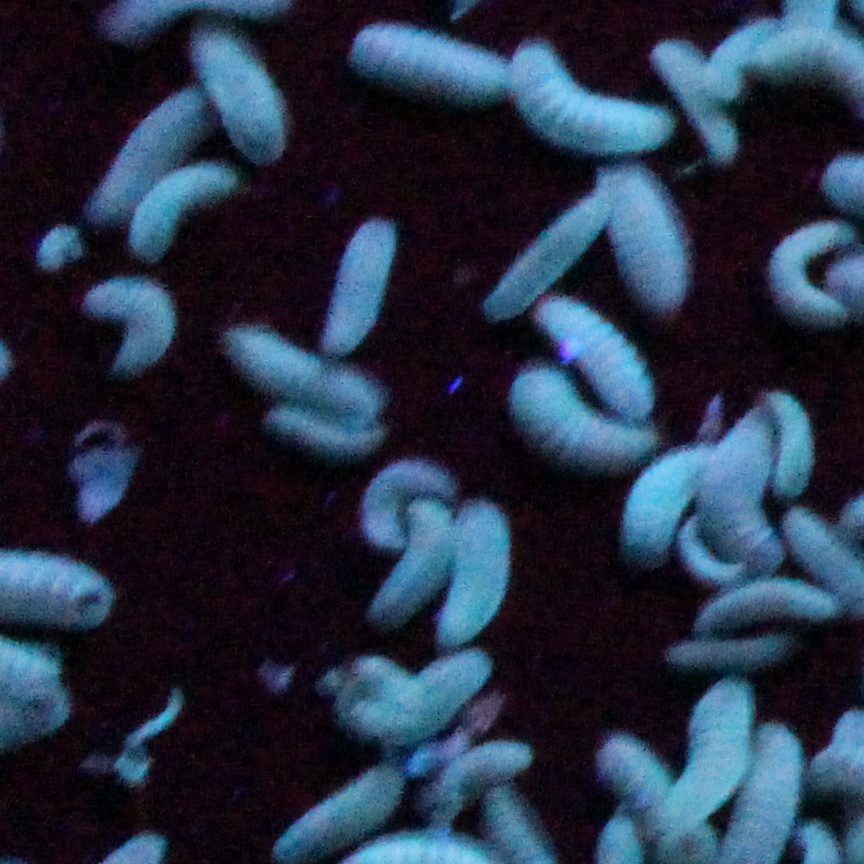larve: (516, 26, 656, 161), (311, 647, 502, 736), (504, 372, 637, 490), (350, 25, 509, 120), (600, 177, 699, 317), (64, 280, 192, 386), (207, 35, 299, 161), (320, 197, 392, 357), (1, 547, 131, 631), (449, 502, 515, 650), (716, 414, 776, 564), (1, 644, 82, 746), (135, 180, 245, 254), (757, 226, 836, 328), (691, 687, 747, 815), (664, 41, 717, 176), (292, 769, 388, 843), (262, 411, 397, 460), (216, 327, 313, 392), (503, 222, 588, 294), (127, 86, 193, 176), (684, 584, 841, 618), (405, 494, 443, 629), (600, 729, 667, 805), (654, 633, 803, 666), (637, 460, 682, 566), (430, 743, 524, 793), (774, 389, 813, 498), (567, 313, 631, 375), (797, 525, 861, 584), (359, 462, 398, 554)
